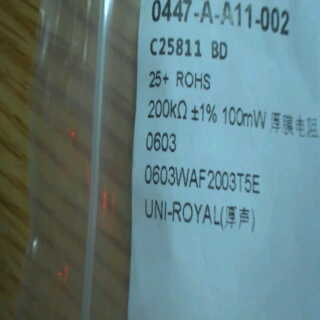200kR: (140, 91, 191, 125)
